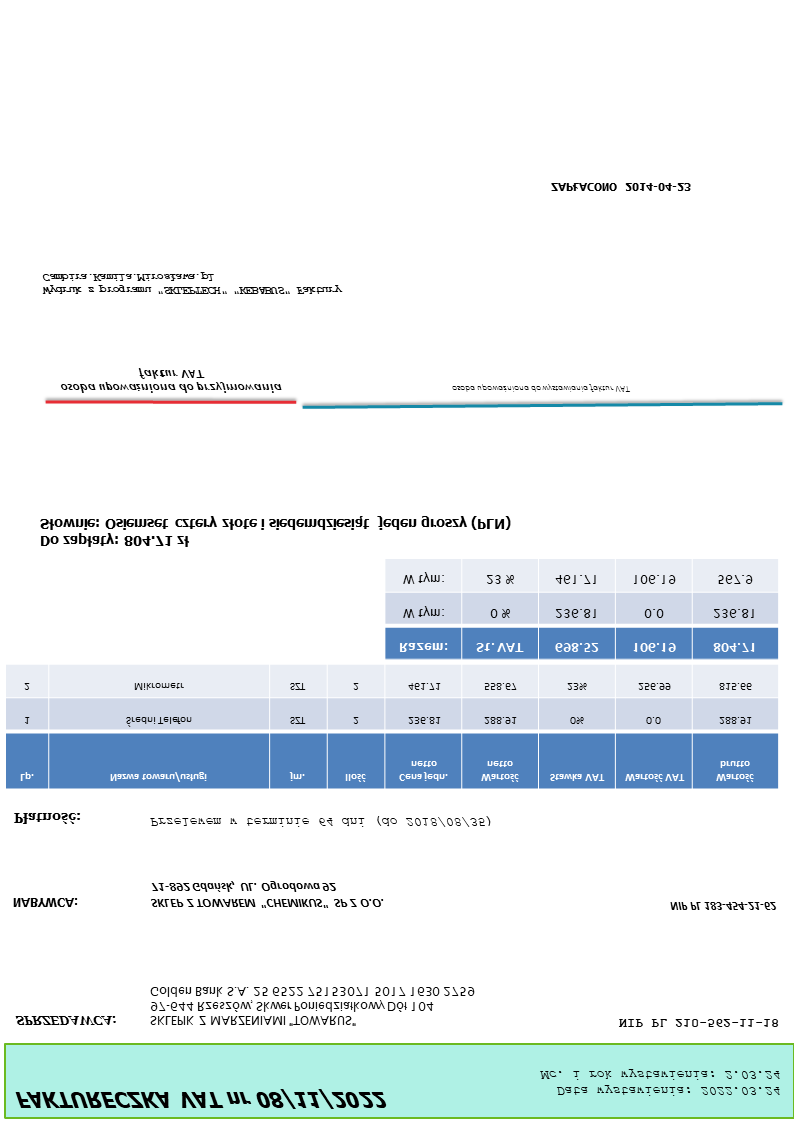Table: (4, 665, 779, 793), (383, 555, 780, 661)
TextBox: (36, 512, 514, 549), (147, 981, 477, 1029), (11, 1087, 388, 1114), (39, 268, 343, 300), (537, 1066, 783, 1100), (148, 879, 383, 911), (57, 365, 284, 396), (147, 815, 492, 830), (615, 1015, 780, 1031), (448, 381, 634, 395), (548, 180, 694, 195), (12, 1013, 117, 1030), (666, 899, 777, 914), (12, 810, 81, 828), (9, 895, 79, 912)
